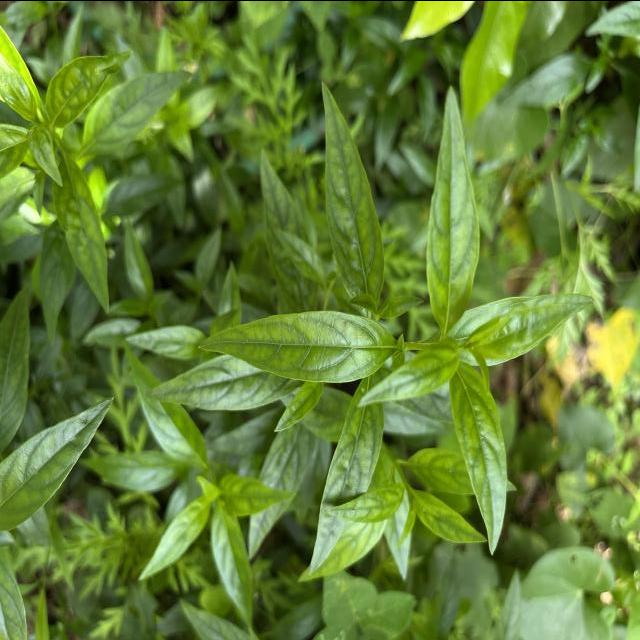Andrographis paniculata: (0, 393, 116, 539), (307, 376, 386, 576), (197, 307, 398, 385), (318, 78, 386, 302), (424, 83, 482, 334), (446, 366, 509, 557), (451, 290, 597, 369), (122, 339, 214, 462), (81, 66, 194, 154), (51, 159, 113, 315), (44, 48, 136, 128), (135, 491, 212, 582), (209, 516, 256, 632), (410, 487, 488, 548), (213, 471, 294, 518), (326, 481, 406, 524), (123, 323, 205, 360)
